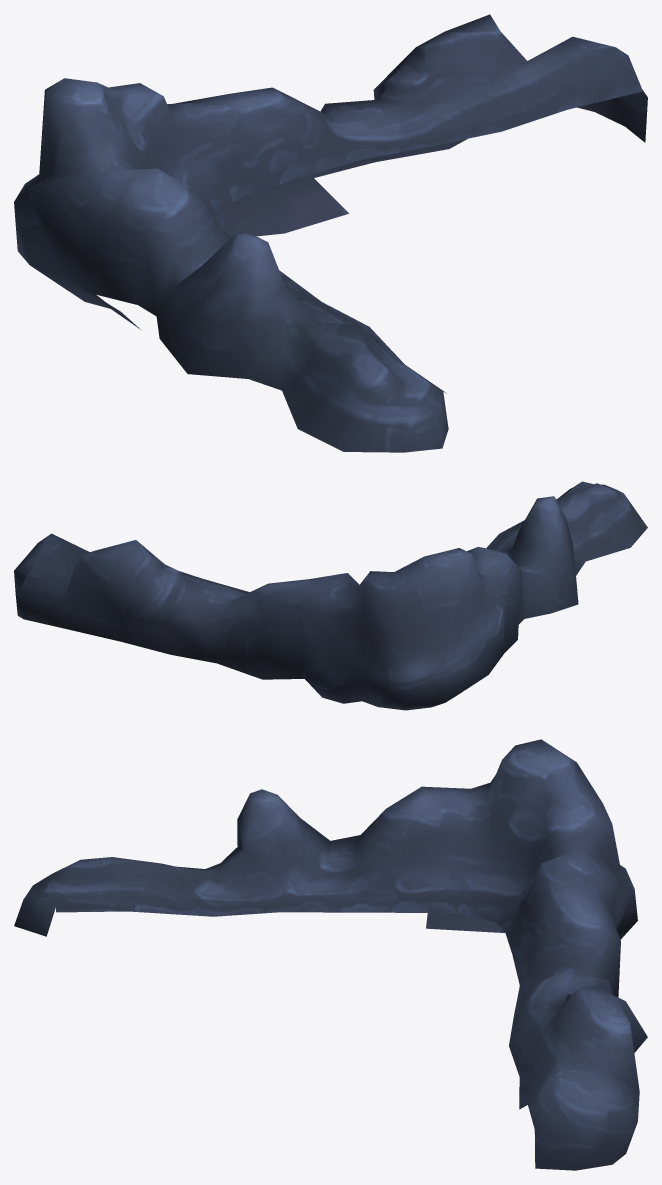
The model's file is lm_rock_02.fbx.
3 renders of one model, top to bottom at view 1: azimuth 30°, elevation 25°; view 2: azimuth 150°, elevation 25°; view 3: azimuth 270°, elevation 25°, orthographic. The views are drawn at different scales.
Visible parts, largest first — view 1: lm_rock_02; view 2: lm_rock_02; view 3: lm_rock_02.
Part boxes in pixels (box(x1,y1,x2,y2)): lm_rock_02: box(14, 14, 647, 452); lm_rock_02: box(14, 481, 647, 710); lm_rock_02: box(14, 739, 647, 1170).
Bounding box in the file's own units: 2.75 × 0.9229 × 2.69.
